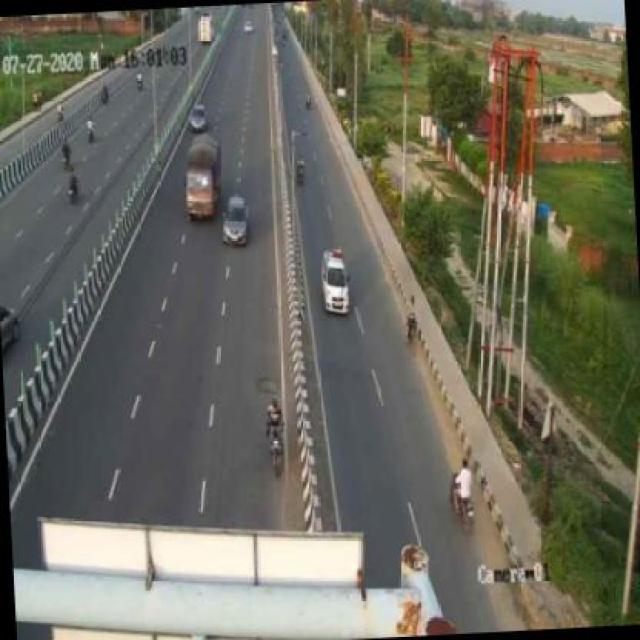car: (317, 242, 355, 328), (218, 188, 257, 252), (189, 98, 211, 137)
